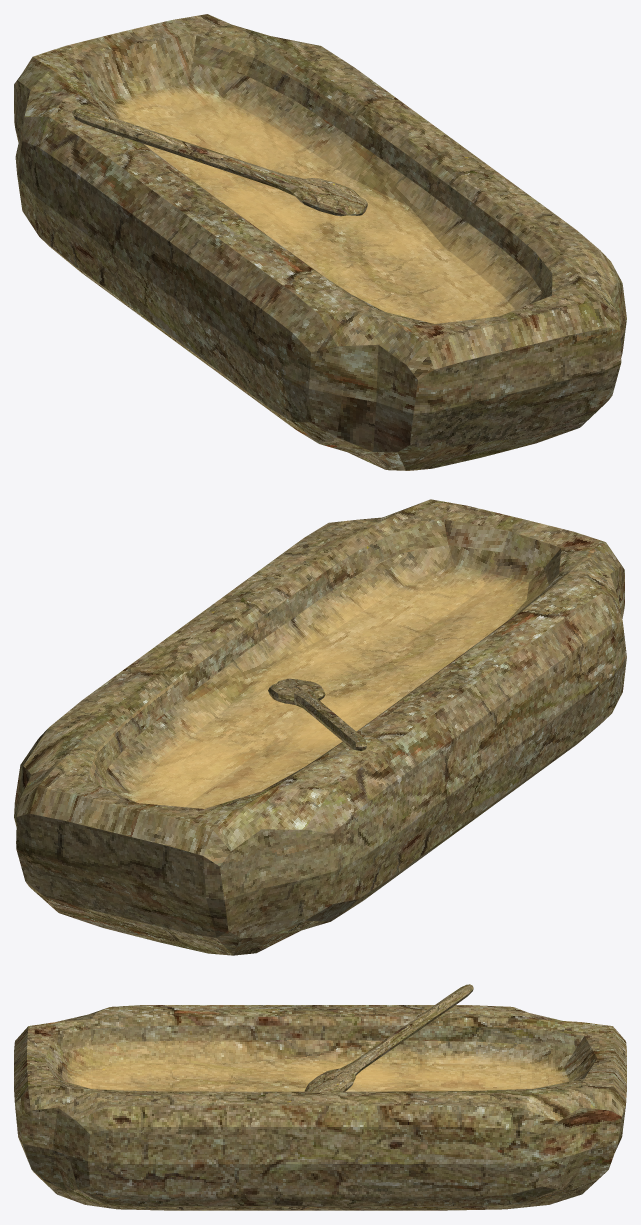
The model's file is BasicWoodBoat.glb.
The picture shows the model from 3 angles, top to bottom: view 1: azimuth 30°, elevation 25°; view 2: azimuth 150°, elevation 25°; view 3: azimuth 270°, elevation 25°; orthographic projection. The views are drawn at different scales.
Visible parts, largest first — view 1: Cube, Cube.001; view 2: Cube, Cube.001; view 3: Cube, Cube.001.
Boxes of the visible parts, x1,y1,x2,y2 form: Cube: (14, 14, 626, 470); Cube.001: (71, 108, 367, 216); Cube: (14, 499, 626, 955); Cube.001: (268, 678, 366, 750); Cube: (14, 1005, 626, 1210); Cube.001: (304, 984, 473, 1091).
Bounding box in the file's own units: 4.89 × 3.11 × 10.66.
2 materials, 2 textured.
